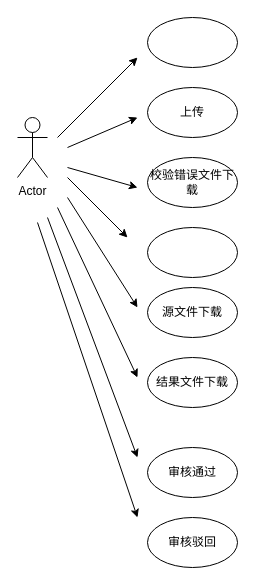
This 255x585 diagram has some shape labels left out. Each missing label, with the centre of its shape:
"查询批次" belongs at (x=192, y=42).
"结果查看" belongs at (x=192, y=252).
